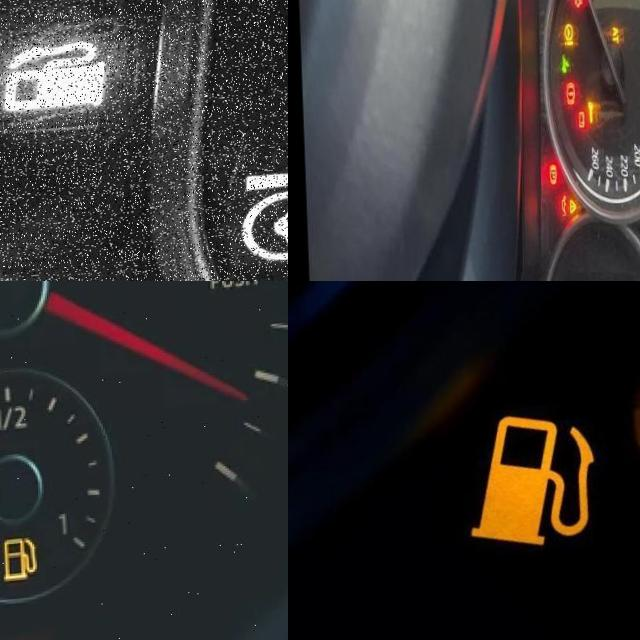Electronic Power Steering: (229, 158, 288, 274), (562, 30, 572, 54)
